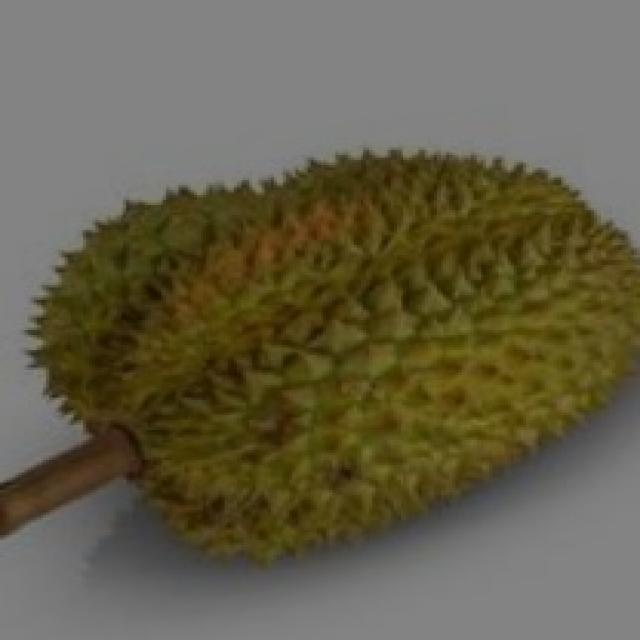fruit: (3, 167, 372, 635), (264, 150, 640, 597)
